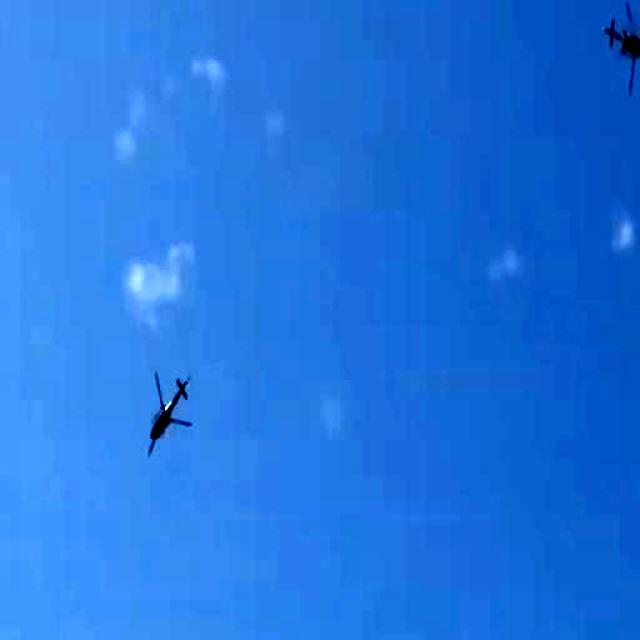drone: (140, 369, 202, 479), (594, 0, 640, 88)
